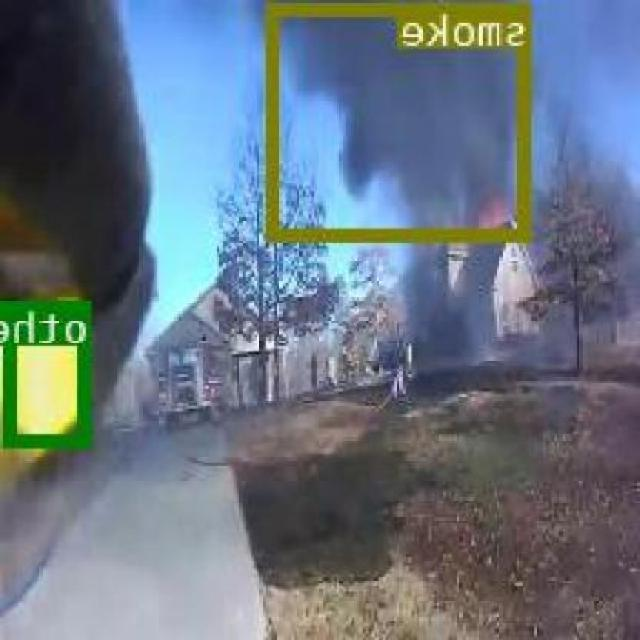Smoke: (270, 2, 535, 238)
